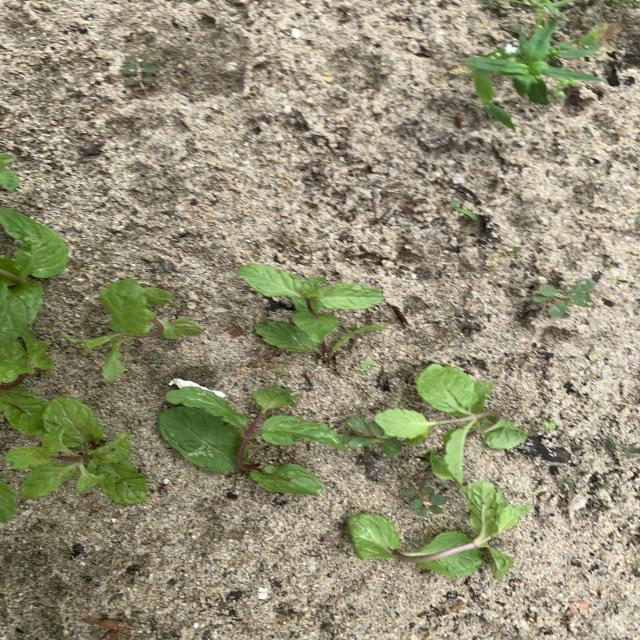crop: (159, 385, 345, 495), (374, 365, 527, 484), (348, 480, 527, 579), (6, 398, 147, 502), (237, 264, 383, 360), (73, 279, 200, 379), (1, 209, 67, 357), (1, 329, 52, 435), (1, 481, 15, 522), (1, 154, 17, 189)
weed: (466, 18, 598, 102), (531, 280, 593, 316), (345, 416, 400, 456), (402, 479, 447, 515), (450, 199, 478, 219), (357, 358, 373, 371), (542, 420, 555, 431), (151, 352, 167, 359), (625, 448, 639, 456), (634, 216, 639, 231)
